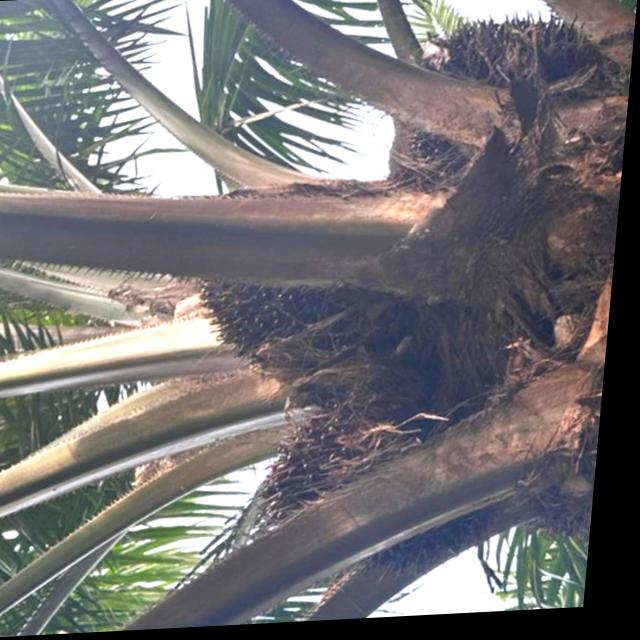unripe: (198, 179, 432, 388), (265, 404, 514, 596), (396, 14, 602, 201)
